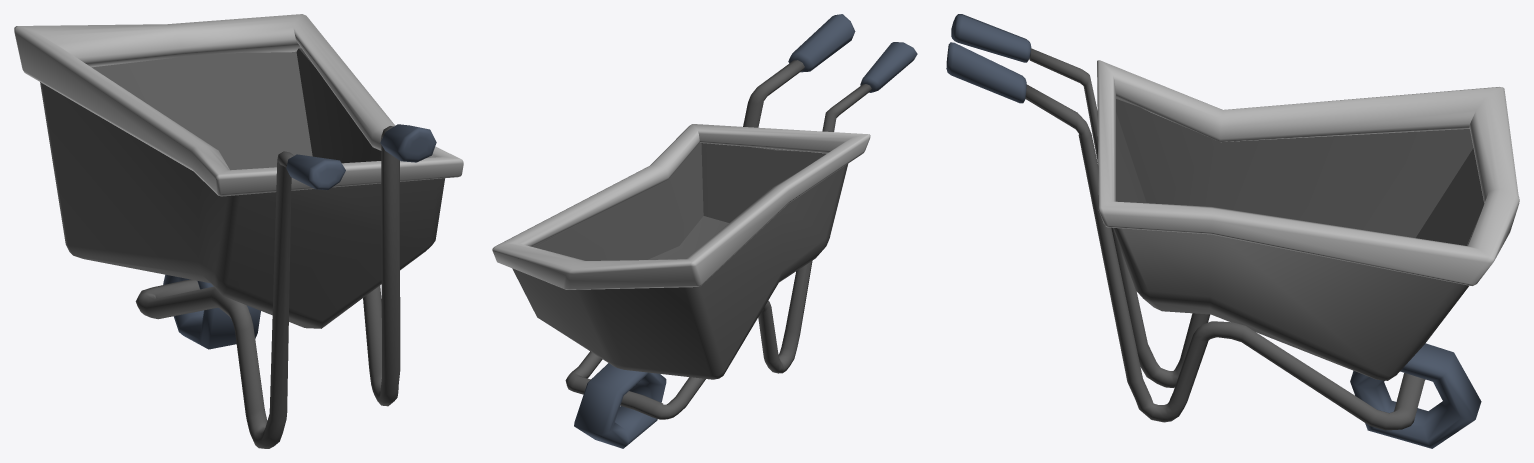
Rendered from props_wheelbarrow.fbx.
3 views of the same model, side by side, from view 1: azimuth 30°, elevation 25°; view 2: azimuth 150°, elevation 25°; view 3: azimuth 270°, elevation 25° (orthographic). The views are drawn at different scales.
Parts seen in each view (by area): view 1: Cylinder.122; view 2: Cylinder.122; view 3: Cylinder.122.
Boxes of the visible parts, x1,y1,x2,y2 form: Cylinder.122: (14,14,463,448); Cylinder.122: (492,14,917,448); Cylinder.122: (946,14,1519,448).
Size of the model in its own units: 100 by 128 by 178.
